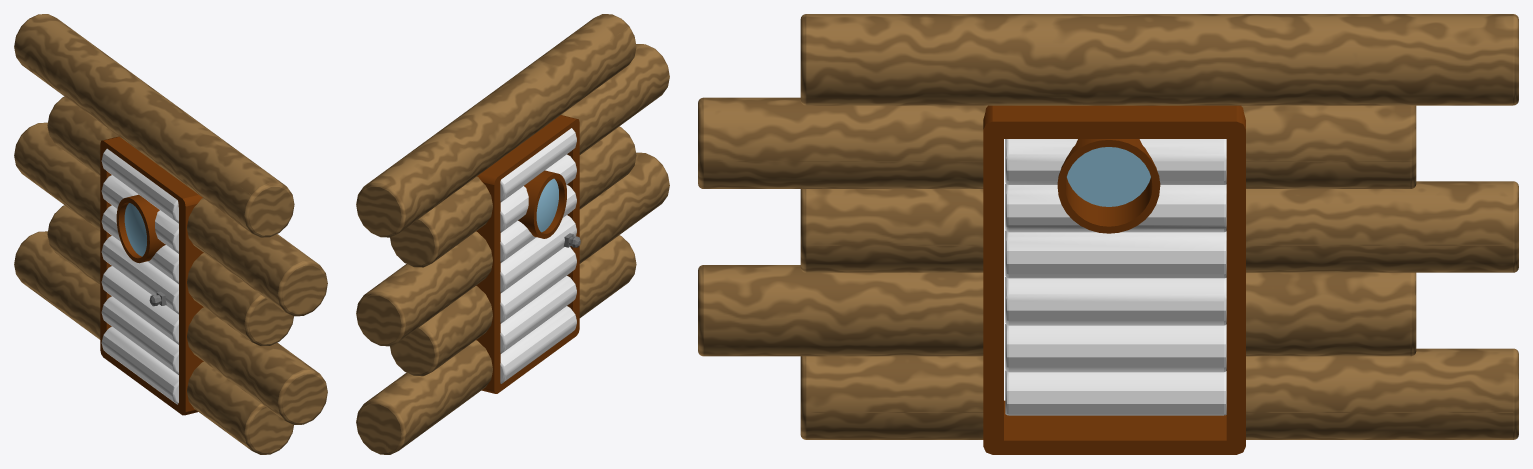
Rendered from kapilitahtaduvar.fbx.
3 views of the same model, side by side, from view 1: azimuth 30°, elevation 25°; view 2: azimuth 150°, elevation 25°; view 3: azimuth 270°, elevation 25° (orthographic). The views are drawn at different scales.
Parts seen in each view (by area): view 1: Circle; view 2: Circle; view 3: Circle.
Part boxes in pixels (<box>): Circle: <box>14,14,327,454</box>; Circle: <box>356,14,669,454</box>; Circle: <box>698,14,1518,454</box>.
Size of the model in its own units: 244 by 899 by 1600.
